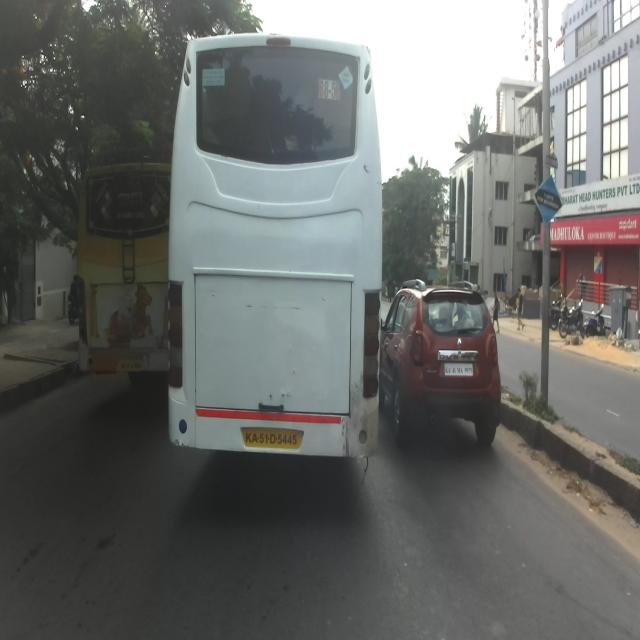bus: (166, 31, 383, 473), (75, 145, 175, 390)
car: (378, 278, 502, 447)
